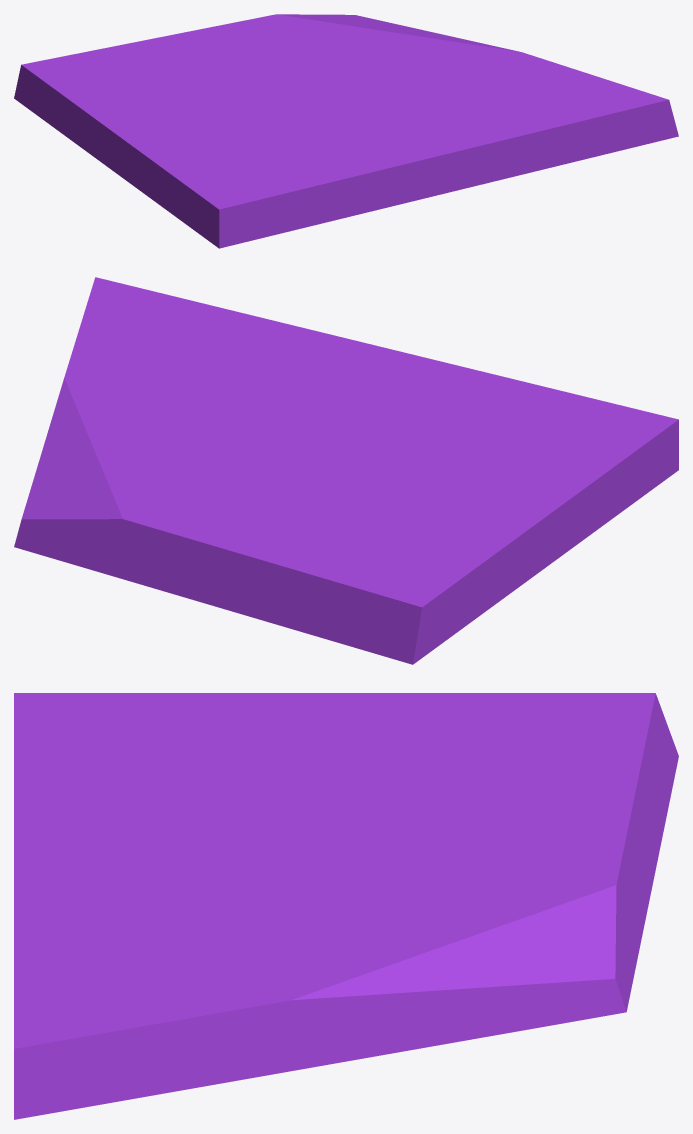
File: Glass_106_1_chunks.fbx
3 renders of one model, top to bottom at view 1: azimuth 30°, elevation 25°; view 2: azimuth 150°, elevation 25°; view 3: azimuth 270°, elevation 25°, orthographic. The views are drawn at different scales.
Visible parts, largest first — view 1: Glass_106_1_20, Glass_106_1_2, Glass_106_1_8, Glass_106_1_1, Glass_106_1_12, Glass_106_1_13, Glass_106_1_15, Glass_106_1_4, Glass_106_1_3, Glass_106_1_21, Glass_106_1_19, Glass_106_1_6 (+8 smaller); view 2: Glass_106_1_2, Glass_106_1_8, Glass_106_1_13, Glass_106_1_12, Glass_106_1_1, Glass_106_1_4, Glass_106_1_7, Glass_106_1_3, Glass_106_1_6, Glass_106_1_20, Glass_106_1_9, Glass_106_1_21 (+8 smaller); view 3: Glass_106_1_8, Glass_106_1_2, Glass_106_1_7, Glass_106_1_6, Glass_106_1_12, Glass_106_1_4, Glass_106_1_3, Glass_106_1_1, Glass_106_1_20, Glass_106_1_13, Glass_106_1_15, Glass_106_1_9 (+7 smaller).
Part boxes in pixels (x1,y1,x2,y2): Glass_106_1_20: (240, 145, 428, 242); Glass_106_1_2: (60, 25, 298, 101); Glass_106_1_8: (401, 58, 656, 113); Glass_106_1_1: (157, 128, 283, 248); Glass_106_1_12: (100, 97, 223, 192); Glass_106_1_13: (14, 57, 134, 146); Glass_106_1_15: (568, 96, 678, 161); Glass_106_1_4: (220, 14, 381, 63); Glass_106_1_3: (213, 72, 321, 144); Glass_106_1_21: (359, 124, 498, 184); Glass_106_1_19: (397, 103, 520, 197); Glass_106_1_6: (340, 38, 540, 71); Glass_106_1_2: (188, 470, 402, 661); Glass_106_1_8: (68, 285, 268, 422); Glass_106_1_13: (376, 532, 525, 664); Glass_106_1_12: (394, 454, 631, 534); Glass_106_1_1: (460, 413, 678, 528); Glass_106_1_4: (81, 452, 226, 543); Glass_106_1_7: (14, 414, 123, 566); Glass_106_1_3: (261, 430, 464, 492); Glass_106_1_6: (53, 365, 212, 456); Glass_106_1_20: (419, 363, 651, 427); Glass_106_1_9: (195, 395, 417, 445); Glass_106_1_21: (316, 331, 448, 394); Glass_106_1_8: (37, 896, 323, 1092); Glass_106_1_2: (377, 722, 677, 899); Glass_106_1_7: (355, 922, 634, 1059); Glass_106_1_6: (237, 883, 443, 1080); Glass_106_1_12: (132, 693, 455, 776); Glass_106_1_4: (402, 842, 626, 932); Glass_106_1_3: (176, 761, 405, 852); Glass_106_1_1: (14, 693, 277, 783); Glass_106_1_20: (14, 709, 149, 833); Glass_106_1_13: (399, 693, 678, 761); Glass_106_1_15: (14, 984, 166, 1119); Glass_106_1_9: (208, 802, 326, 912).
Size of the model in its own units: 1099 by 89.14 by 849.
